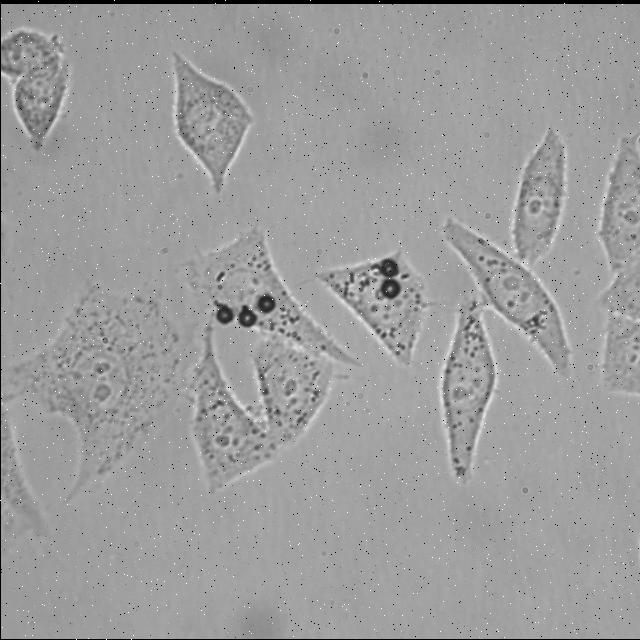microbeads: (376, 276, 400, 298), (236, 306, 258, 326), (256, 292, 276, 314), (379, 258, 401, 276), (214, 304, 230, 322)
